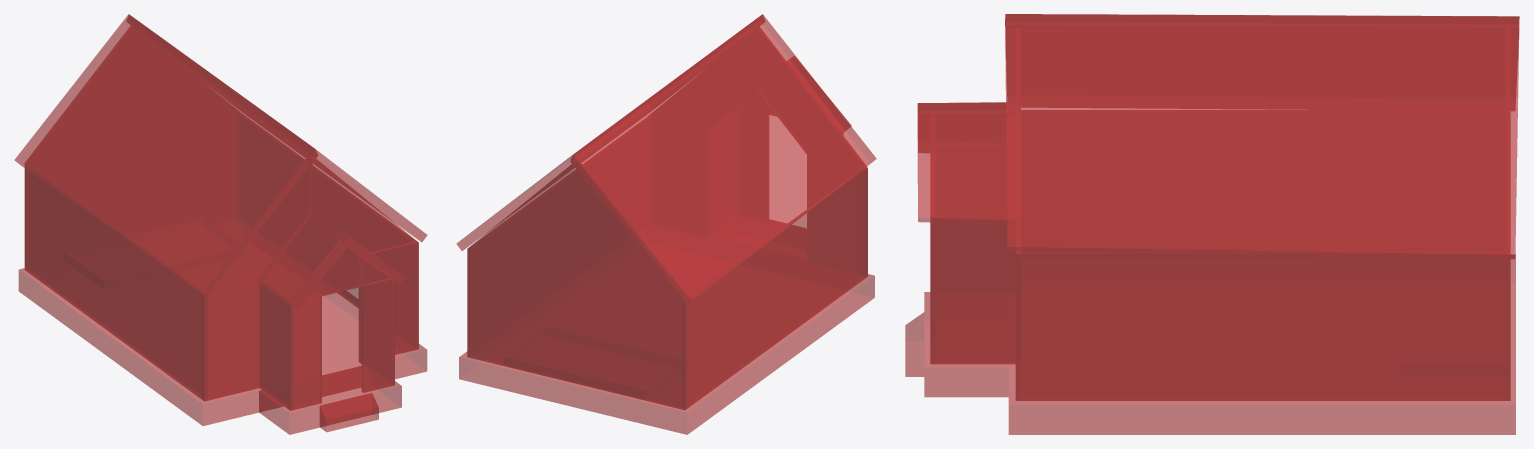
File: SM_Bld_Church_01_Collision.fbx
The picture shows the model from 3 angles, left to right: view 1: azimuth 30°, elevation 25°; view 2: azimuth 150°, elevation 25°; view 3: azimuth 270°, elevation 25°; orthographic projection. The views are drawn at different scales.
Visible parts, largest first — view 1: SM_Bld_Church_01_Collision; view 2: SM_Bld_Church_01_Collision; view 3: SM_Bld_Church_01_Collision.
Part boxes in pixels (left/top/right/bottom): SM_Bld_Church_01_Collision: left=14, top=14, right=427, bottom=434; SM_Bld_Church_01_Collision: left=456, top=14, right=876, bottom=434; SM_Bld_Church_01_Collision: left=905, top=14, right=1519, bottom=434.
Size of the model in its own units: 716 by 740 by 1193.
